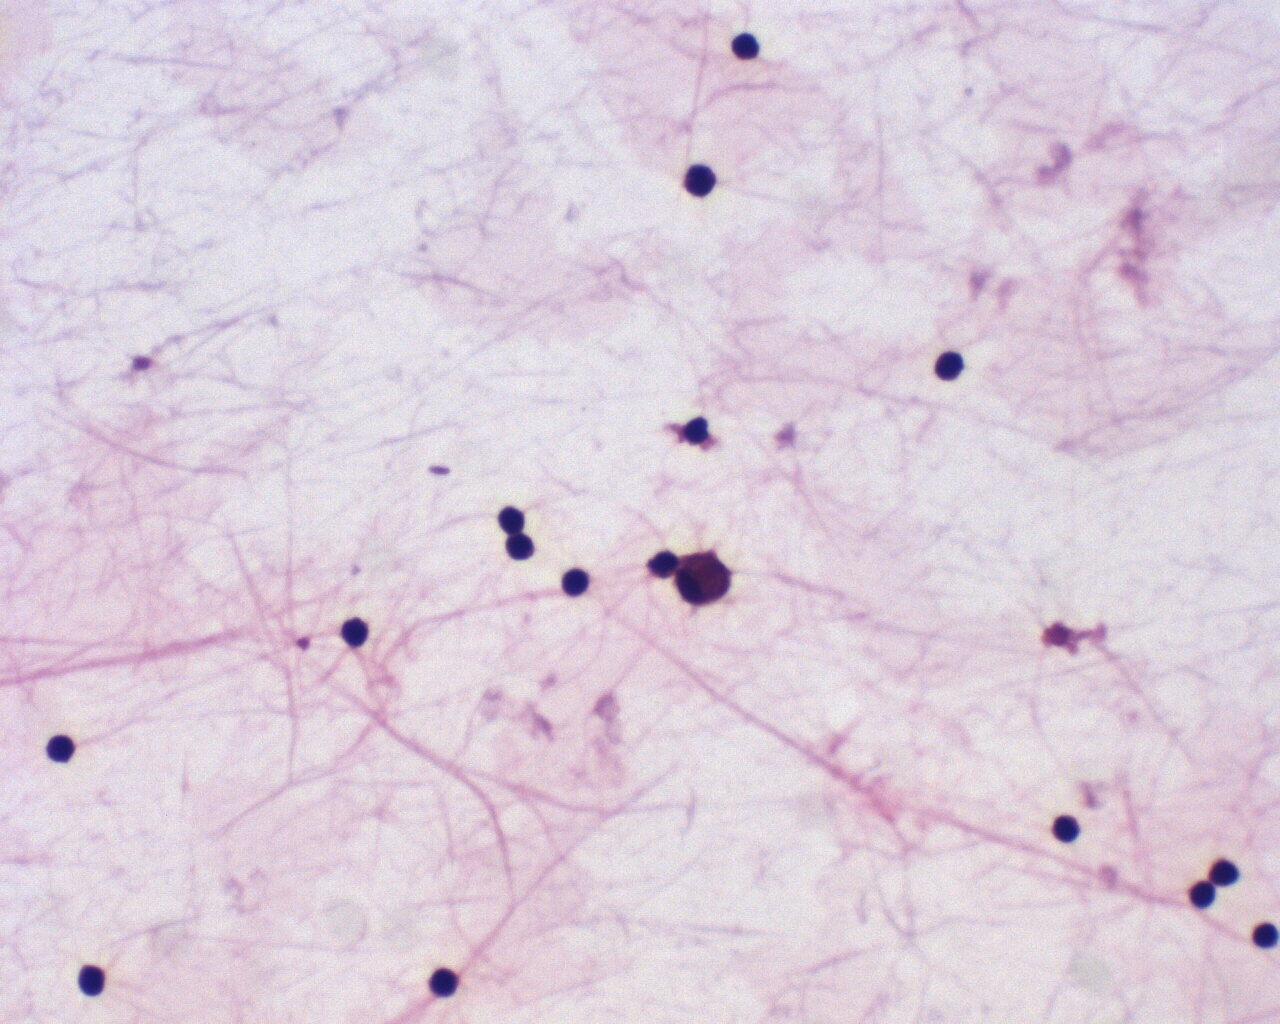lymph: (677, 154, 721, 202), (421, 962, 466, 1002), (927, 346, 967, 388), (43, 728, 78, 771), (334, 613, 373, 652), (727, 26, 765, 65), (1048, 809, 1088, 845), (554, 567, 598, 599), (71, 961, 109, 997), (501, 531, 540, 563), (1183, 877, 1217, 913), (1248, 920, 1280, 952)
